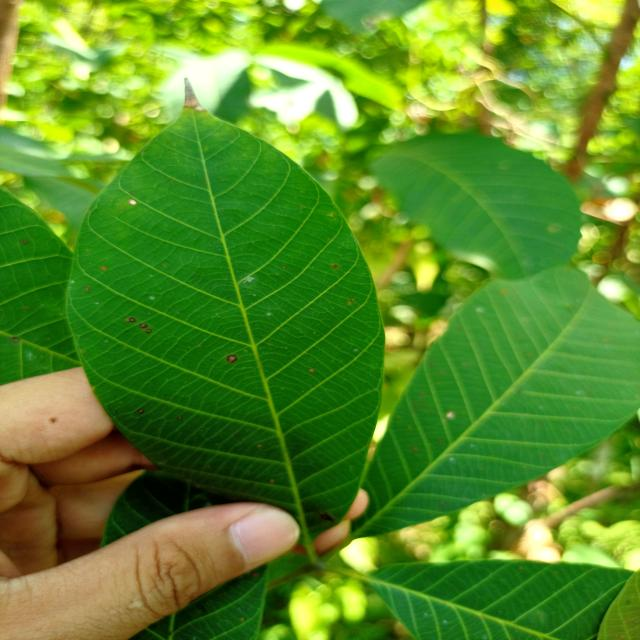Colletotrichum: (226, 354, 238, 364), (139, 322, 148, 328), (145, 328, 153, 334), (129, 317, 136, 323), (138, 408, 144, 414)
